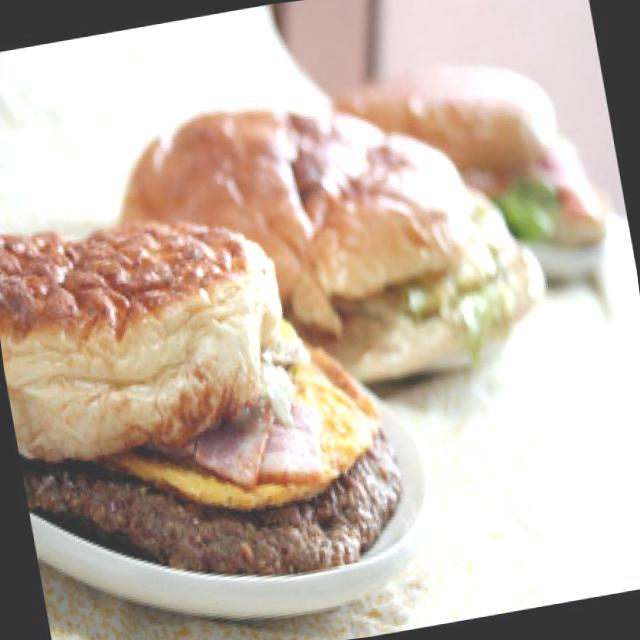Hamburger: (0, 174, 428, 632)
